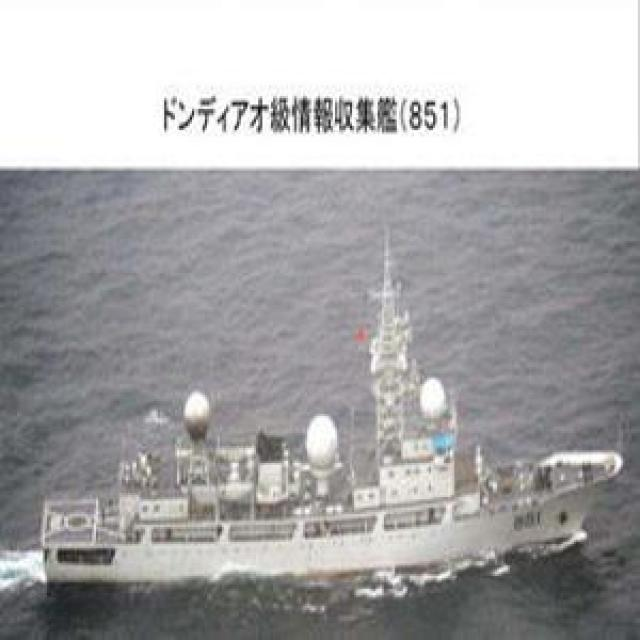navalvessels: (35, 276, 613, 594)
